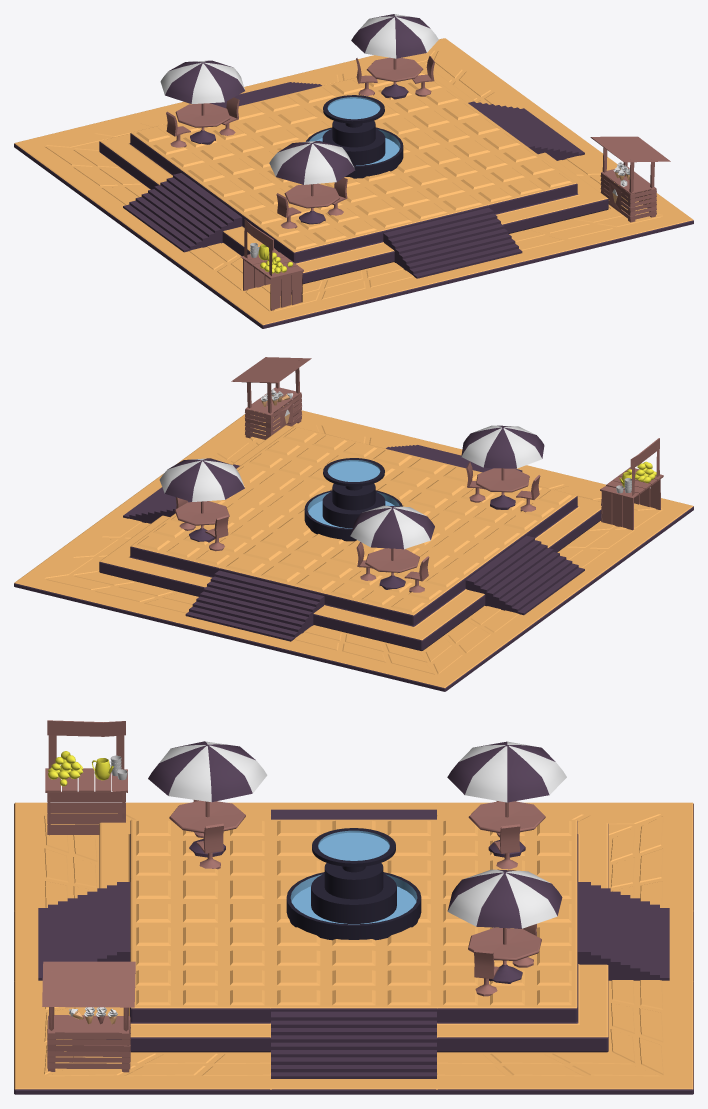
The model's file is infrastructure-building-plaza.fbx.
3 views of the same model, one above another, from view 1: azimuth 30°, elevation 25°; view 2: azimuth 150°, elevation 25°; view 3: azimuth 270°, elevation 25° (orthographic). The views are drawn at different scales.
Parts seen in each view (by area): view 1: infrastructure-building-plaza; view 2: infrastructure-building-plaza; view 3: infrastructure-building-plaza.
Part boxes in pixels (x1,y1,x2,y2): infrastructure-building-plaza: [14, 14, 693, 328]; infrastructure-building-plaza: [14, 357, 693, 691]; infrastructure-building-plaza: [14, 720, 693, 1094].
Size of the model in its own units: 20.12 by 4.64 by 20.12.
